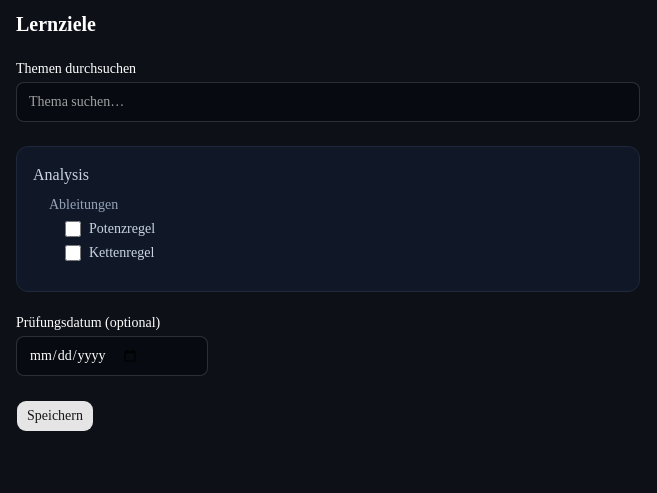
Lernziele › shows validation error when no topics selected
This screenshot has width=657, height=493.
Click the button "Speichern" at coordinates (55, 416), box [16,400,94,432]
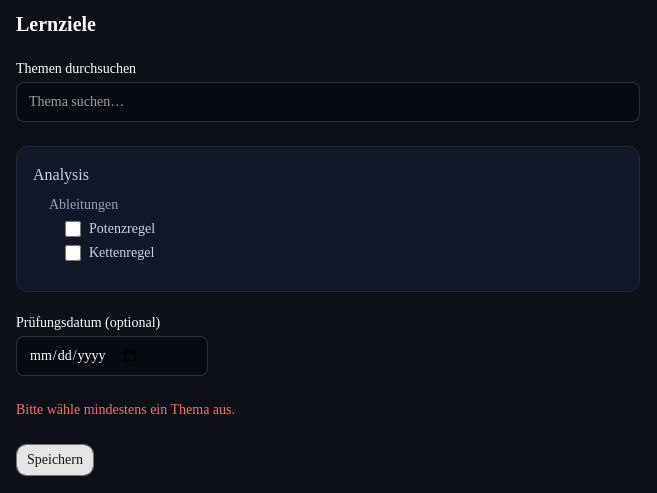
Now the text "Bitte wähle mindestens ein Thema aus." is shown, box [16,402,235,417]
